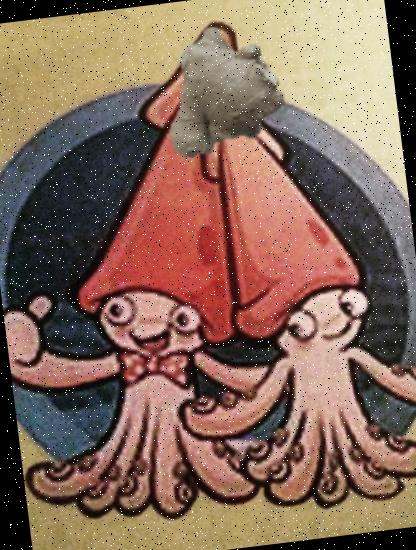Ginger: (138, 20, 290, 172)
